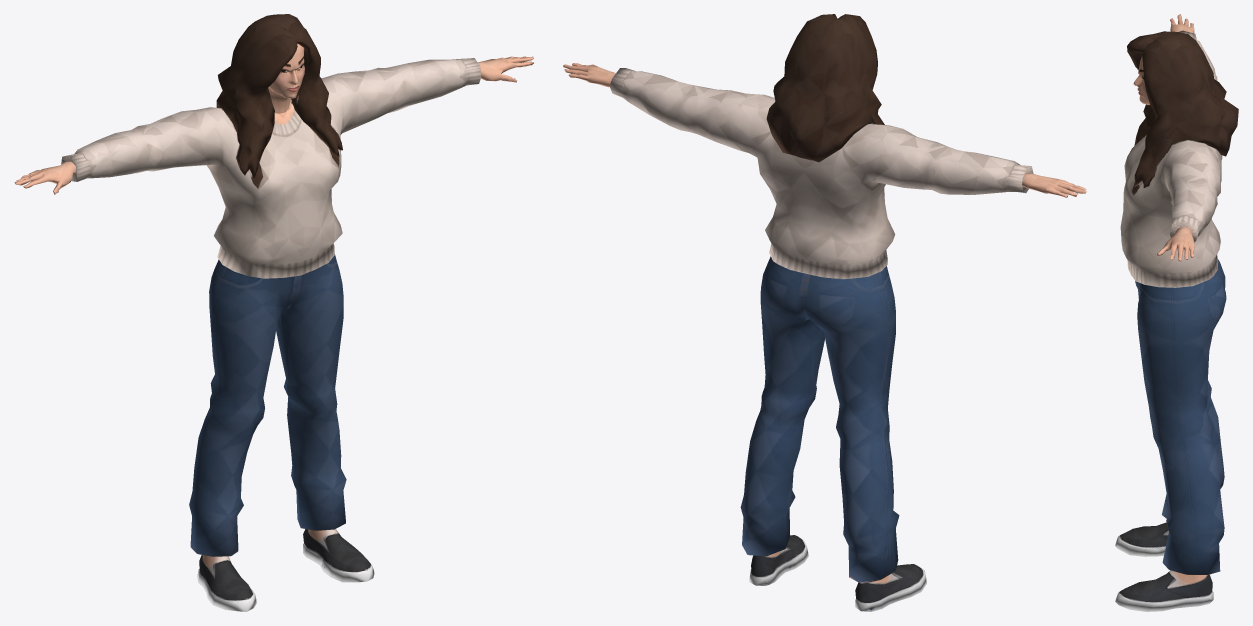
Rendered from civilian_woman_sweater.glb.
The picture shows the model from 3 angles, left to right: view 1: azimuth 30°, elevation 25°; view 2: azimuth 150°, elevation 25°; view 3: azimuth 270°, elevation 25°; orthographic projection. The views are drawn at different scales.
Size of the model in its own units: 0.9707 by 1 by 0.2075.
Materials: 1 (1 with a texture image).
